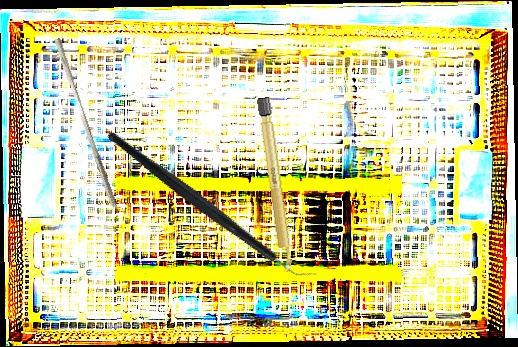Chopper: (106, 80, 319, 331)
Pusher: (47, 37, 125, 209)
Scalpel Handle: (255, 96, 295, 274)
